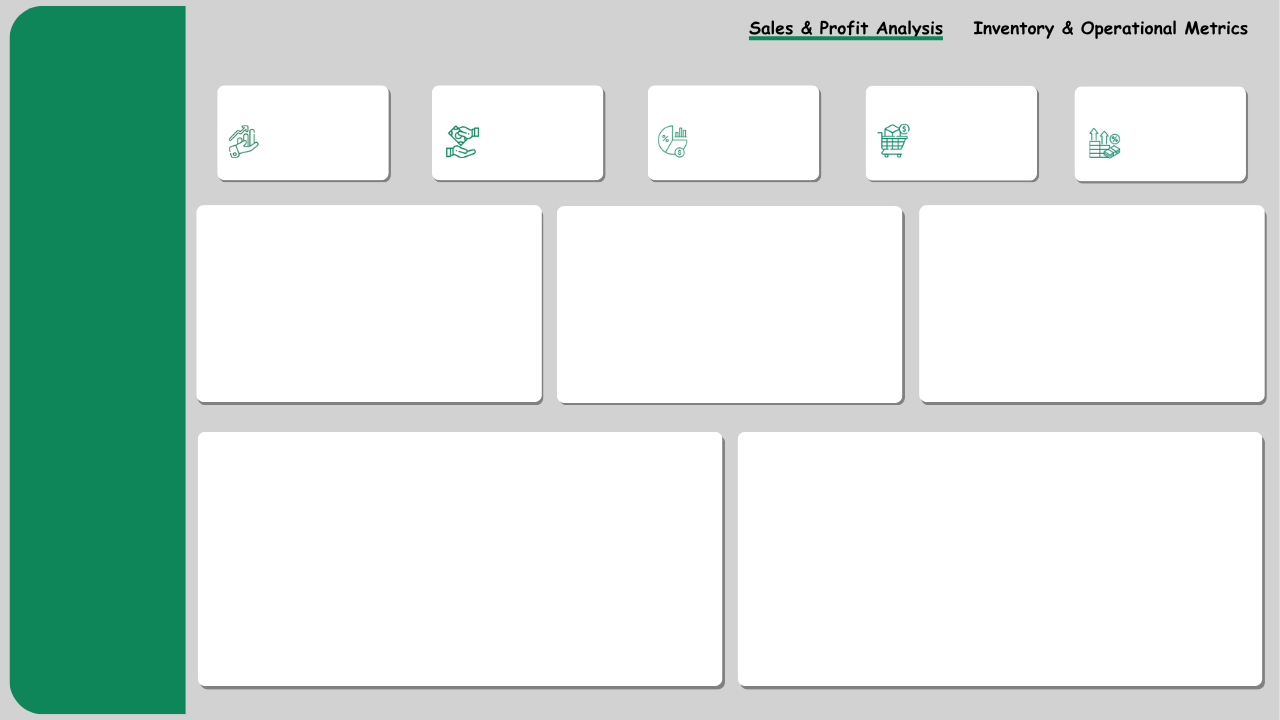

The page's visual inventory and layout, read from the dashboard file:
{"tool":"powerbi","page":{"name":"Sales & Profit Analysis","canvas":[1280,720],"ordinal":0},"visuals":[{"type":"card","title":"Total Sales","fields":{"Values":["Sum(vendor_sale_summary.TotalSalesDollars)"]},"box":[257.1,90,122.9,77.1],"z":0},{"type":"card","title":"Total Purchase","fields":{"Values":["Sum(vendor_sale_summary.TotalPurchaseDollars)"]},"box":[474.3,90,122.9,77.1],"z":1000},{"type":"card","title":"Total Profit","fields":{"Values":["Sum(vendor_sale_summary.GrossProfit)"]},"box":[687.6,90,122.9,77.1],"z":2000},{"type":"card","title":"S/P Ratio","fields":{"Values":["Avg(vendor_sale_summary.SalestoPurchaseRatio)"]},"box":[890,90,123.1,76.9],"z":3000},{"type":"card","title":"Profit Margin","fields":{"Values":["Avg(vendor_sale_summary.ProfitMargin)"]},"box":[1111.4,90,122.9,77.1],"z":4000},{"type":"clusteredBarChart","title":"Top 10 Brands by Sales","fields":{"Category":["vendor_sale_summary.Description"],"Y":["Sum(vendor_sale_summary.TotalSalesDollars)"]},"box":[201.6,205.8,334.2,190],"z":5000},{"type":"clusteredBarChart","title":"Top 10 Brands by  Purchase & Sales Quantity","fields":{"Category":["vendor_sale_summary.Description"],"Y":["Sum(vendor_sale_summary.TotalSalesQuantity)","Sum(vendor_sale_summary.TotalPurchaseQuantity)"]},"box":[555,206.2,343.8,190],"z":6000},{"type":"columnChart","title":"Top 10 Vendors by Profit Margin","fields":{"Category":["vendor_sale_summary.VendorName"],"Y":["Sum(vendor_sale_summary.ProfitMargin)"]},"box":[921.4,205.7,337.1,195.7],"z":7000},{"type":"lineStackedColumnComboChart","title":"Purchase vs Sales Quantity by Vendor","fields":{"Y":["Sum(vendor_sale_summary.TotalPurchaseQuantity)"],"Category":["vendor_sale_summary.VendorName"],"Y2":["Sum(vendor_sale_summary.TotalSalesQuantity)"]},"box":[201.2,432.5,516.2,252.5],"z":8000},{"type":"scatterChart","fields":{"Category":["BrandPerformance.Description"],"X":["Sum(BrandPerformance.TotalSales)"],"Series":["BrandPerformance.TargetBrand"],"Y":["Avg(BrandPerformance.AvgProfitMargin)"]},"box":[738.6,432.9,520,252.9],"z":10000},{"type":"image","box":[16,34,169,47],"z":10001},{"type":"slicer","title":"Vendors Name","fields":{"Values":["vendor_sale_summary.VendorName"]},"box":[23,99,156,192],"z":10002},{"type":"slicer","title":"Brands Name","fields":{"Values":["vendor_sale_summary.Description"]},"box":[23,304,156,193],"z":10003},{"type":"slicer","title":"Volume","fields":{"Values":["vendor_sale_summary.Volume"]},"box":[22.5,511.2,156.2,140],"z":10004},{"type":"textbox","box":[192.7,8.2,476.4,49.1],"z":10005},{"type":"actionButton","box":[962.9,8.6,295.7,40],"z":10006}]}

Visuals, with their boxes in screenshot pixels (x1, y1, x2, y2), scaled from the page's 1280x720 canvas onto the 1280x720 screenshot:
"Total Sales" card: 257,90,380,167
"Total Purchase" card: 474,90,597,167
"Total Profit" card: 688,90,810,167
"S/P Ratio" card: 890,90,1013,167
"Profit Margin" card: 1111,90,1234,167
"Top 10 Brands by Sales" clusteredBarChart: 202,206,536,396
"Top 10 Brands by  Purchase & Sales Quantity" clusteredBarChart: 555,206,899,396
"Top 10 Vendors by Profit Margin" columnChart: 921,206,1258,401
"Purchase vs Sales Quantity by Vendor" lineStackedColumnComboChart: 201,432,717,685
scatterChart - BrandPerformance.Description x Sum(BrandPerformance.TotalSales): 739,433,1259,686
image: 16,34,185,81
"Vendors Name" slicer: 23,99,179,291
"Brands Name" slicer: 23,304,179,497
"Volume" slicer: 22,511,179,651
textbox: 193,8,669,57
actionButton: 963,9,1259,49
